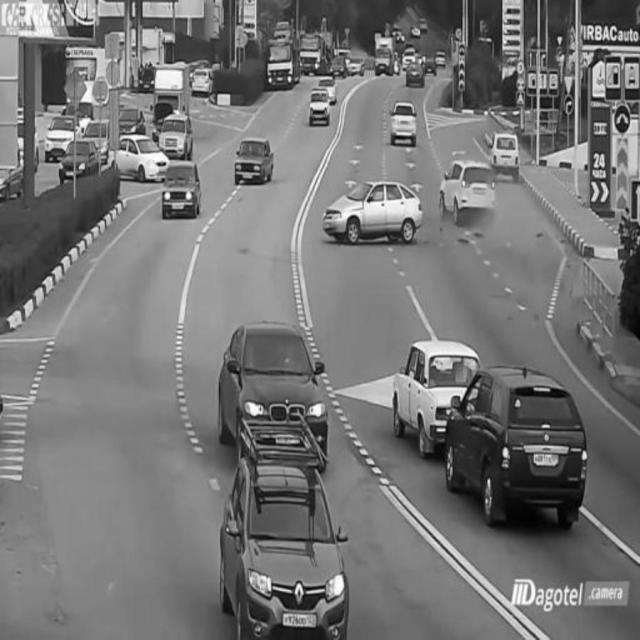vehicle: (217, 442, 351, 637), (444, 363, 588, 531), (216, 315, 329, 443), (389, 331, 463, 447), (321, 176, 422, 247), (439, 157, 497, 224), (115, 131, 169, 183), (158, 157, 199, 221), (263, 30, 307, 87), (233, 134, 275, 185), (60, 134, 100, 182), (489, 126, 525, 178), (390, 94, 422, 146), (42, 115, 77, 162), (308, 84, 334, 129), (372, 35, 396, 82), (188, 58, 214, 95), (405, 55, 431, 89)
